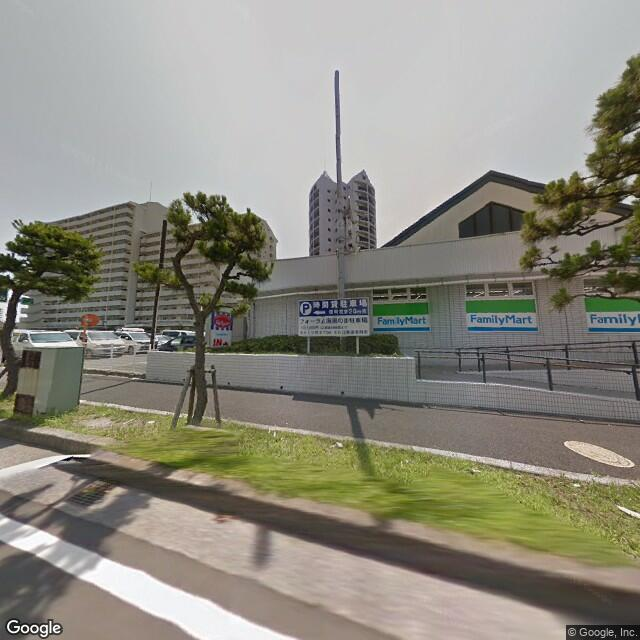family_mart: (463, 292, 538, 337), (582, 292, 640, 336), (369, 298, 432, 338)
